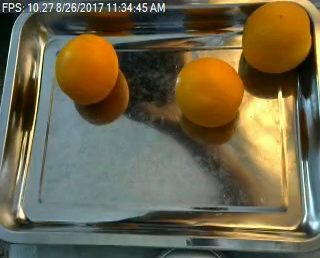Orange: (243, 2, 313, 72), (174, 57, 243, 125), (55, 34, 120, 104)
